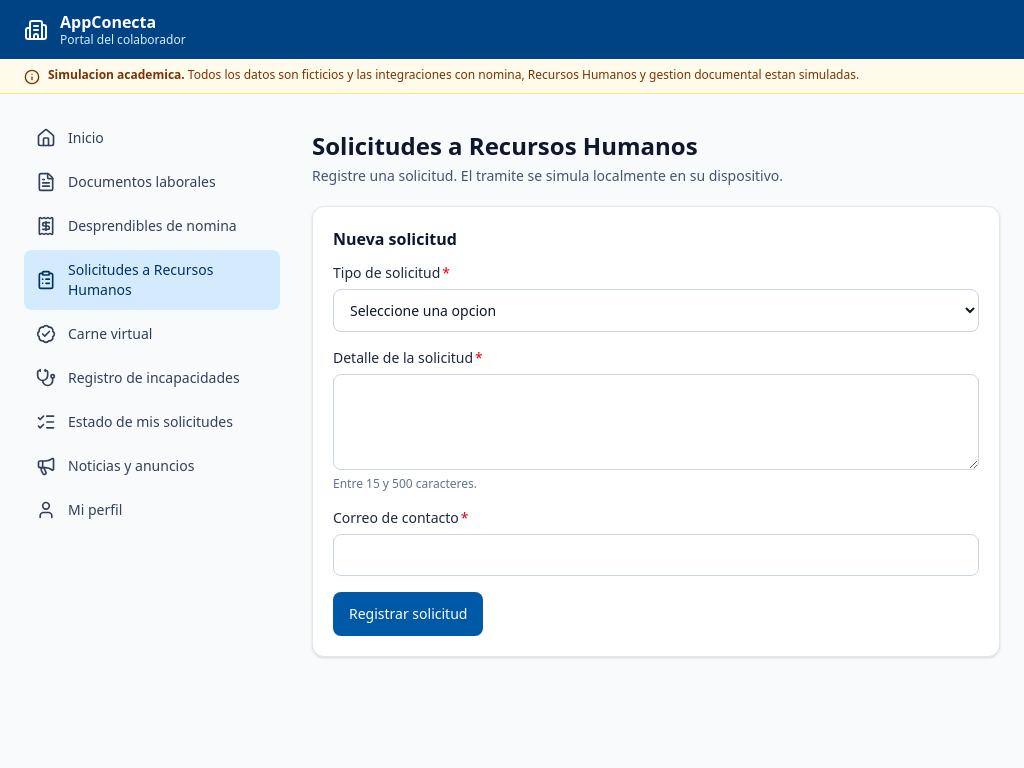
Creacion de solicitudes a Recursos Humanos › registra la solicitud y confirma al colaborador
Select "Certificacion laboral" in the dropdown labelled "Tipo de solicitud*". click: (656,310)
box: [333,289,979,332]
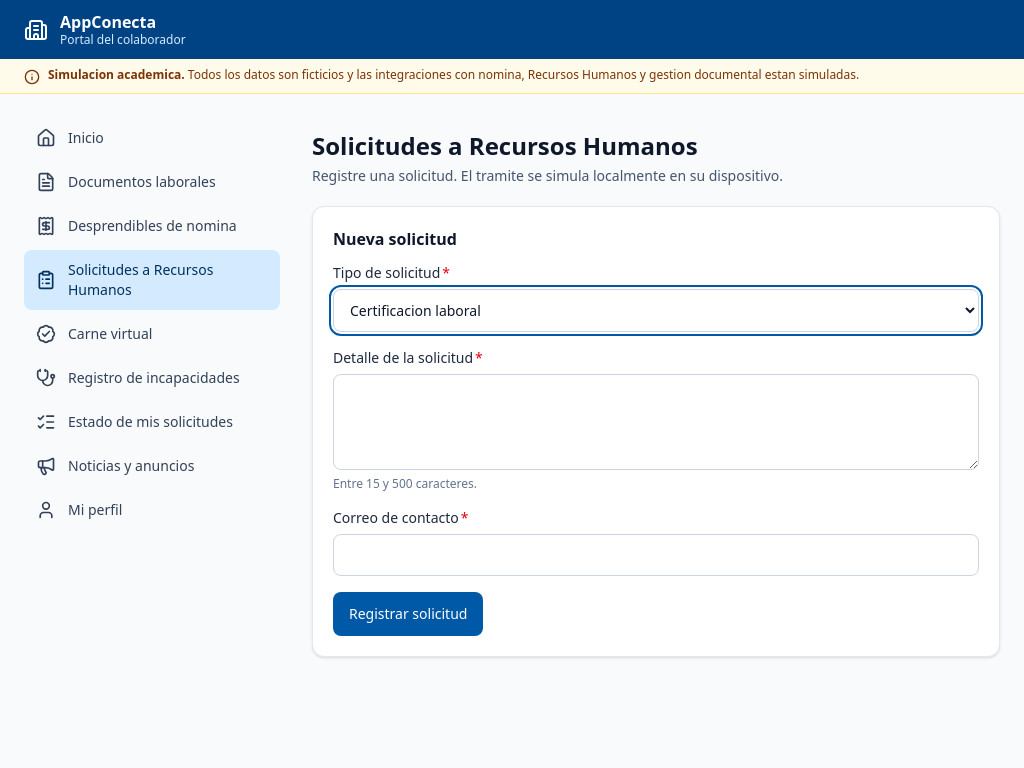
Type "Requiero una certificacion laboral con salario para tramite bancario." into the text box labelled "Detalle de la solicitud*". click: (656,422)
box: [333,374,979,470]
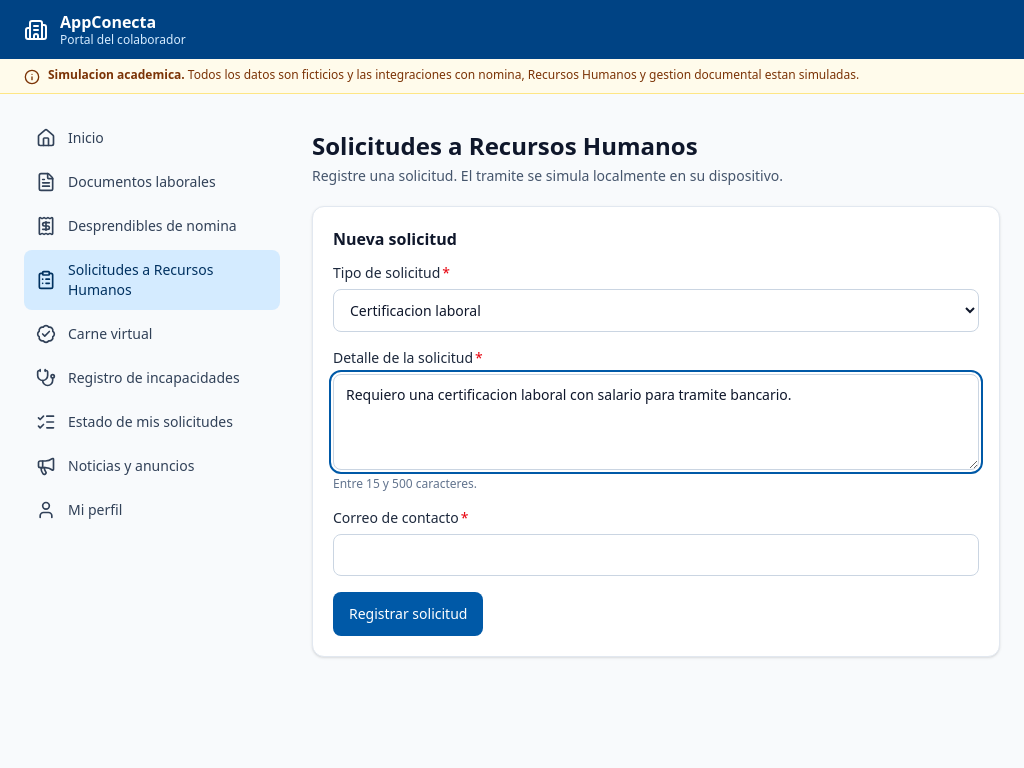
Type "laura.restrepo@appconecta-demo.co" into the field labelled "Correo de contacto*". click: (656,555)
box: [333,534,979,576]
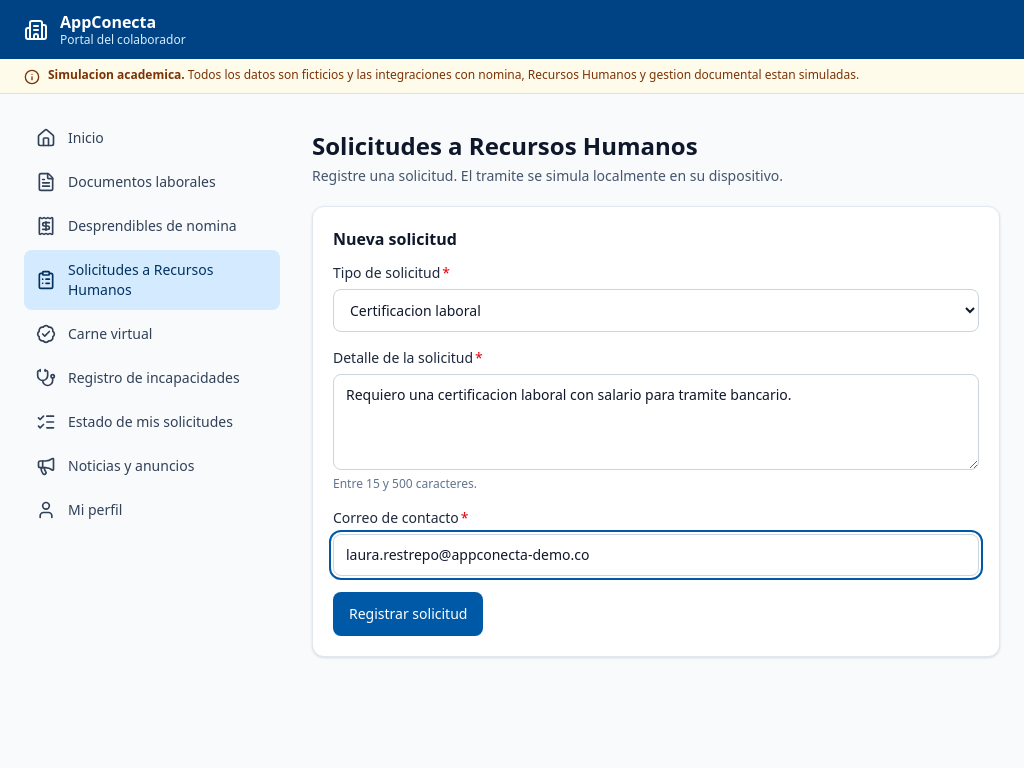
Click the button "Registrar solicitud". click: (408,614)
box: [333,592,483,636]
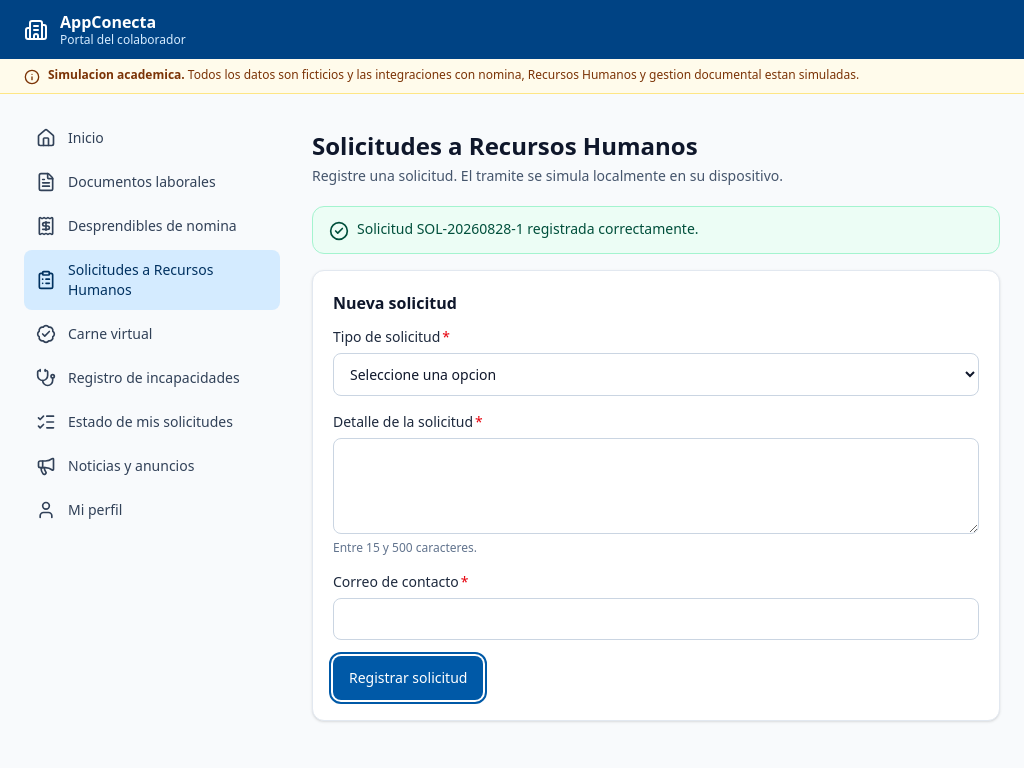
Expected: the message shows "registrada correctamente", [357,219,698,238]
